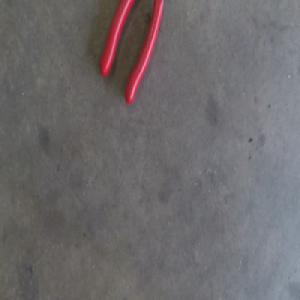Pliers: (99, 0, 164, 102)
